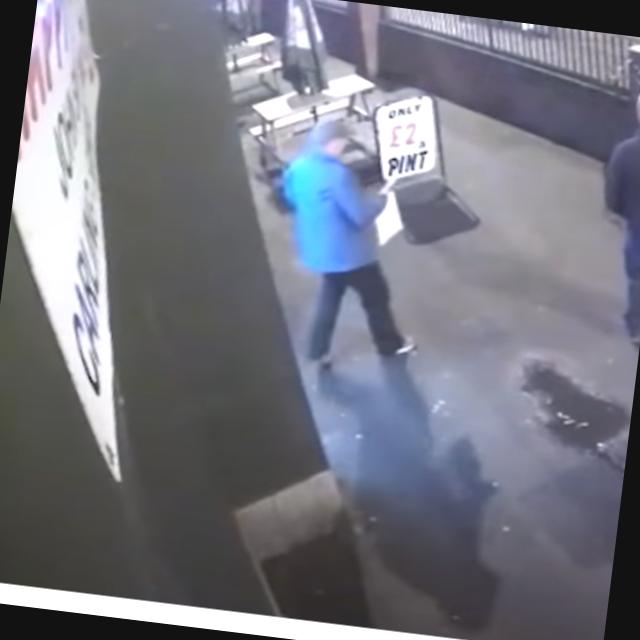person: (259, 109, 441, 380), (583, 82, 640, 343)
